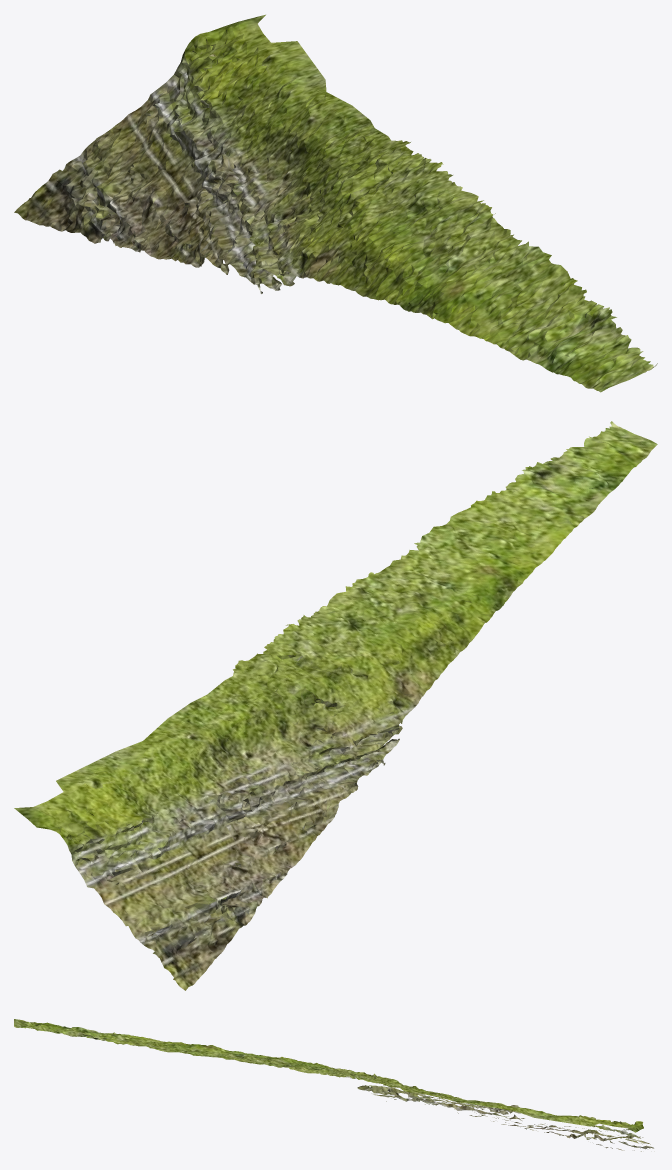
The picture shows the model from 3 angles, top to bottom: view 1: azimuth 30°, elevation 25°; view 2: azimuth 150°, elevation 25°; view 3: azimuth 270°, elevation 25°; orthographic projection. The views are drawn at different scales.
Size of the model in its own units: 2.49 by 2.7 by 10.87.
Materials: 1 (1 with a texture image).
